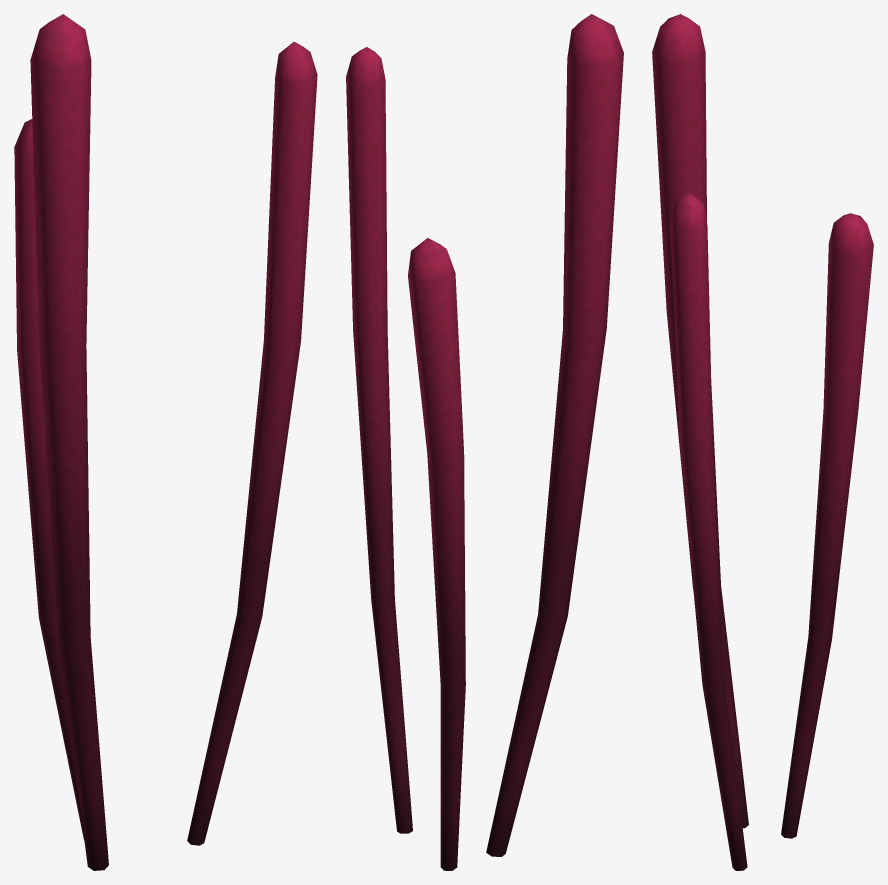
The model's file is Coral_07a.FBX.
3 views of the same model, side by side, from view 1: azimuth 30°, elevation 25°; view 2: azimuth 150°, elevation 25°; view 3: azimuth 270°, elevation 25° (orthographic). The views are drawn at different scales.
Visible parts, largest first — view 1: Coral_07a; view 2: Coral_07a; view 3: Coral_07a.
Boxes of the visible parts, x1,y1,x2,y2 form: Coral_07a: (14, 14, 317, 870); Coral_07a: (346, 14, 623, 870); Coral_07a: (652, 14, 873, 870).
Size of the model in its own units: 21.77 by 66.13 by 16.97.
